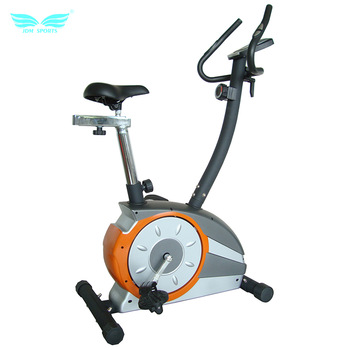gym_bike: (77, 8, 277, 343)
